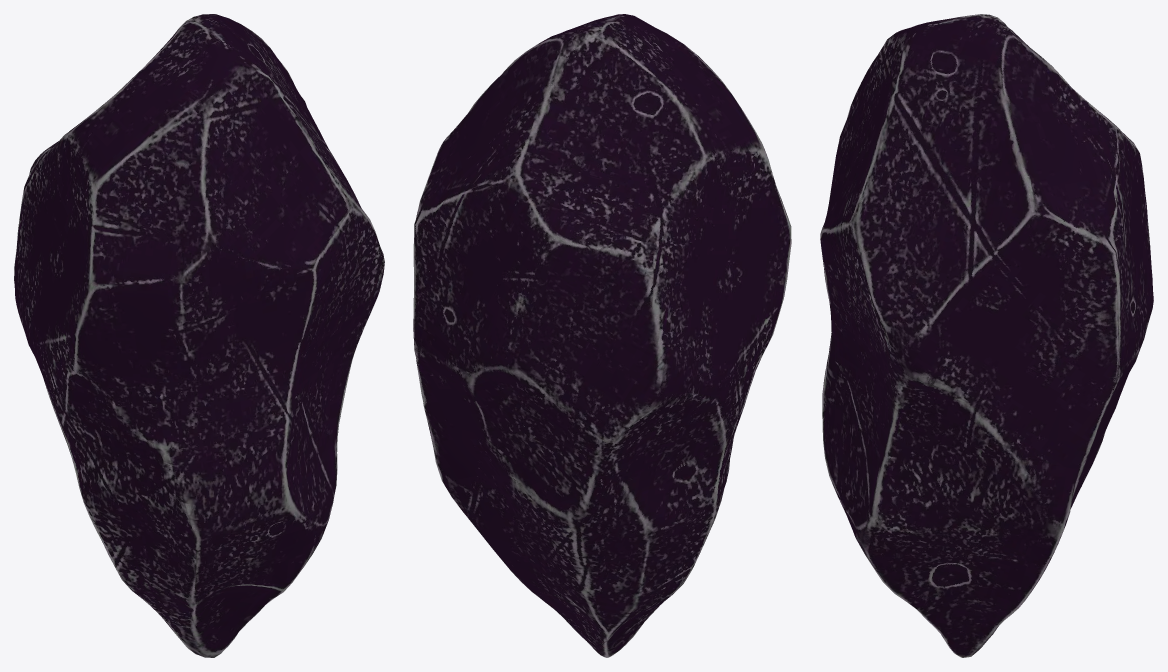
Rendered from AquaCrystal.glb.
3 views of the same model, side by side, from view 1: azimuth 30°, elevation 25°; view 2: azimuth 150°, elevation 25°; view 3: azimuth 270°, elevation 25° (orthographic).
Visible parts, largest first — view 1: defaultMaterial; view 2: defaultMaterial; view 3: defaultMaterial.
Boxes of the visible parts, left/top/right/bottom form: defaultMaterial: left=14, top=14, right=384, bottom=657; defaultMaterial: left=413, top=14, right=791, bottom=657; defaultMaterial: left=820, top=14, right=1153, bottom=657.
Bounding box in the file's own units: 0.1225 × 0.2438 × 0.1151.
Materials: 1 (1 with a texture image).
